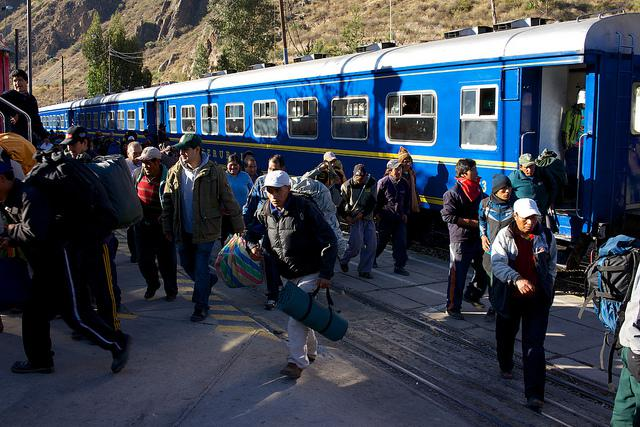Train: (38, 13, 640, 268)
